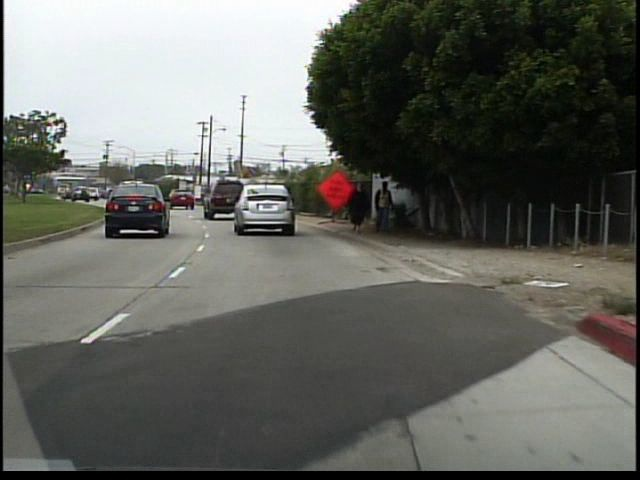person: (340, 176, 372, 239), (371, 180, 395, 238)
